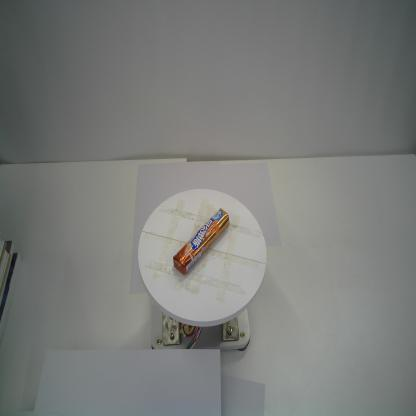Candy: (173, 208, 230, 275)
